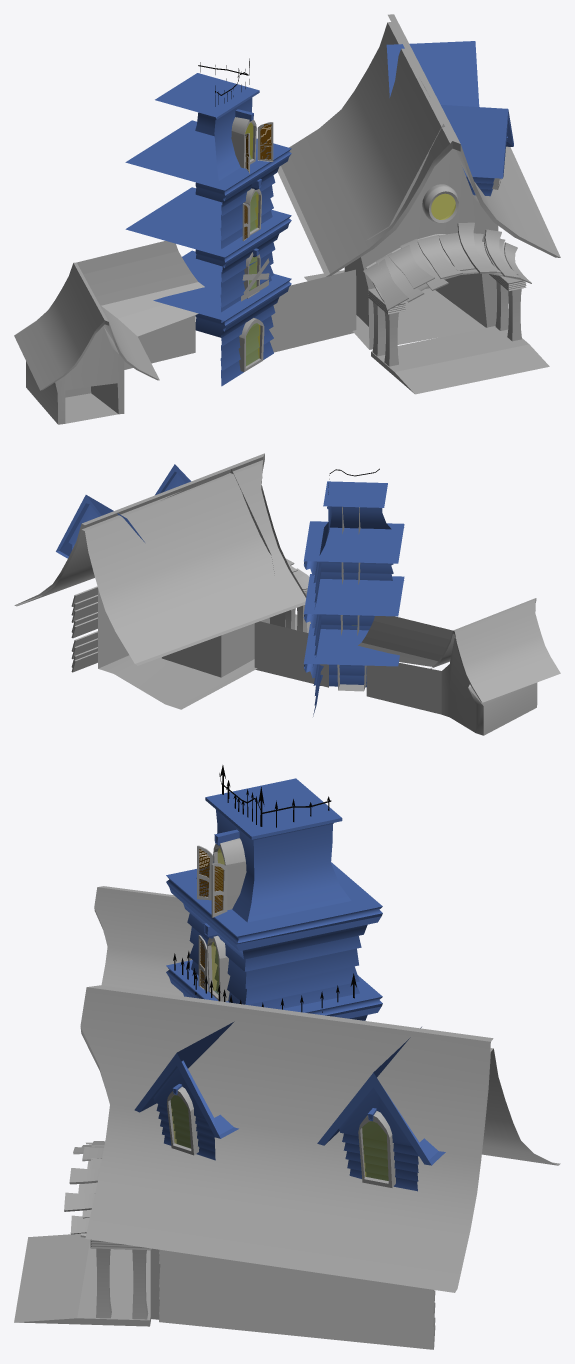
Rendered from dddd.fbx.
3 views of the same model, one above another, from view 1: azimuth 30°, elevation 25°; view 2: azimuth 150°, elevation 25°; view 3: azimuth 270°, elevation 25° (orthographic). The views are drawn at different scales.
Parts seen in each view (by area): view 1: pCube86, pCube57, pCube94, pCube92, pCube93, pCube71, polySurface35, pPlane32, pCube4, pCube50, pCube51, pillar4 (+7 smaller); view 2: pCube86, pCube57, pCube94, pCube92, pCube93, pCube4, pPlane32, pCube84, pCube51, pCube50, pillar4; view 3: pCube86, pCube57, pCube84, pCube4, pCube71, pCube94, pCube51, pCube50, polySurface35, pillar4, widow, pCube52 (+2 smaller).
Boxes of the visible parts, bbox=[...] form: pCube86: bbox=[277, 14, 560, 276]; pCube57: bbox=[125, 120, 291, 386]; pCube94: bbox=[14, 241, 204, 390]; pCube92: bbox=[304, 81, 498, 349]; pCube93: bbox=[26, 315, 195, 424]; pCube71: bbox=[371, 326, 549, 394]; polySurface35: bbox=[363, 222, 531, 310]; pPlane32: bbox=[269, 269, 356, 352]; pCube4: bbox=[155, 73, 264, 180]; pCube50: bbox=[441, 105, 513, 196]; pCube51: bbox=[386, 41, 479, 106]; pillar4: bbox=[372, 281, 521, 366]; pCube86: bbox=[14, 453, 306, 665]; pCube57: bbox=[303, 521, 404, 716]; pCube94: bbox=[358, 598, 560, 702]; pCube92: bbox=[98, 469, 285, 709]; pCube93: bbox=[366, 637, 537, 735]; pCube4: bbox=[319, 481, 391, 555]; pPlane32: bbox=[254, 621, 328, 687]; pCube84: bbox=[71, 586, 97, 672]; pCube51: bbox=[56, 495, 144, 558]; pCube50: bbox=[155, 464, 191, 495]; pillar4: bbox=[285, 605, 307, 632]; pCube86: bbox=[80, 985, 560, 1292]; pCube57: bbox=[166, 862, 382, 1020]; pCube84: bbox=[159, 1249, 435, 1349]; pCube4: bbox=[196, 778, 351, 922]; pCube71: bbox=[14, 1233, 151, 1326]; pCube94: bbox=[94, 886, 193, 996]; pCube51: bbox=[317, 1027, 445, 1191]; pCube50: bbox=[134, 1021, 238, 1160]; polySurface35: bbox=[64, 1141, 105, 1234]; pillar4: bbox=[96, 1248, 148, 1319]; widow: bbox=[213, 838, 246, 909]; pCube52: bbox=[207, 935, 230, 1001].
Bounding box in the file's own units: 27.07 × 13.4 × 16.38.
